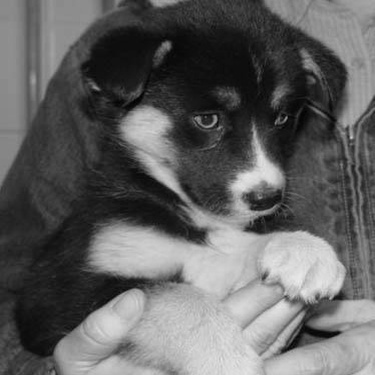dog: (10, 16, 349, 373)
